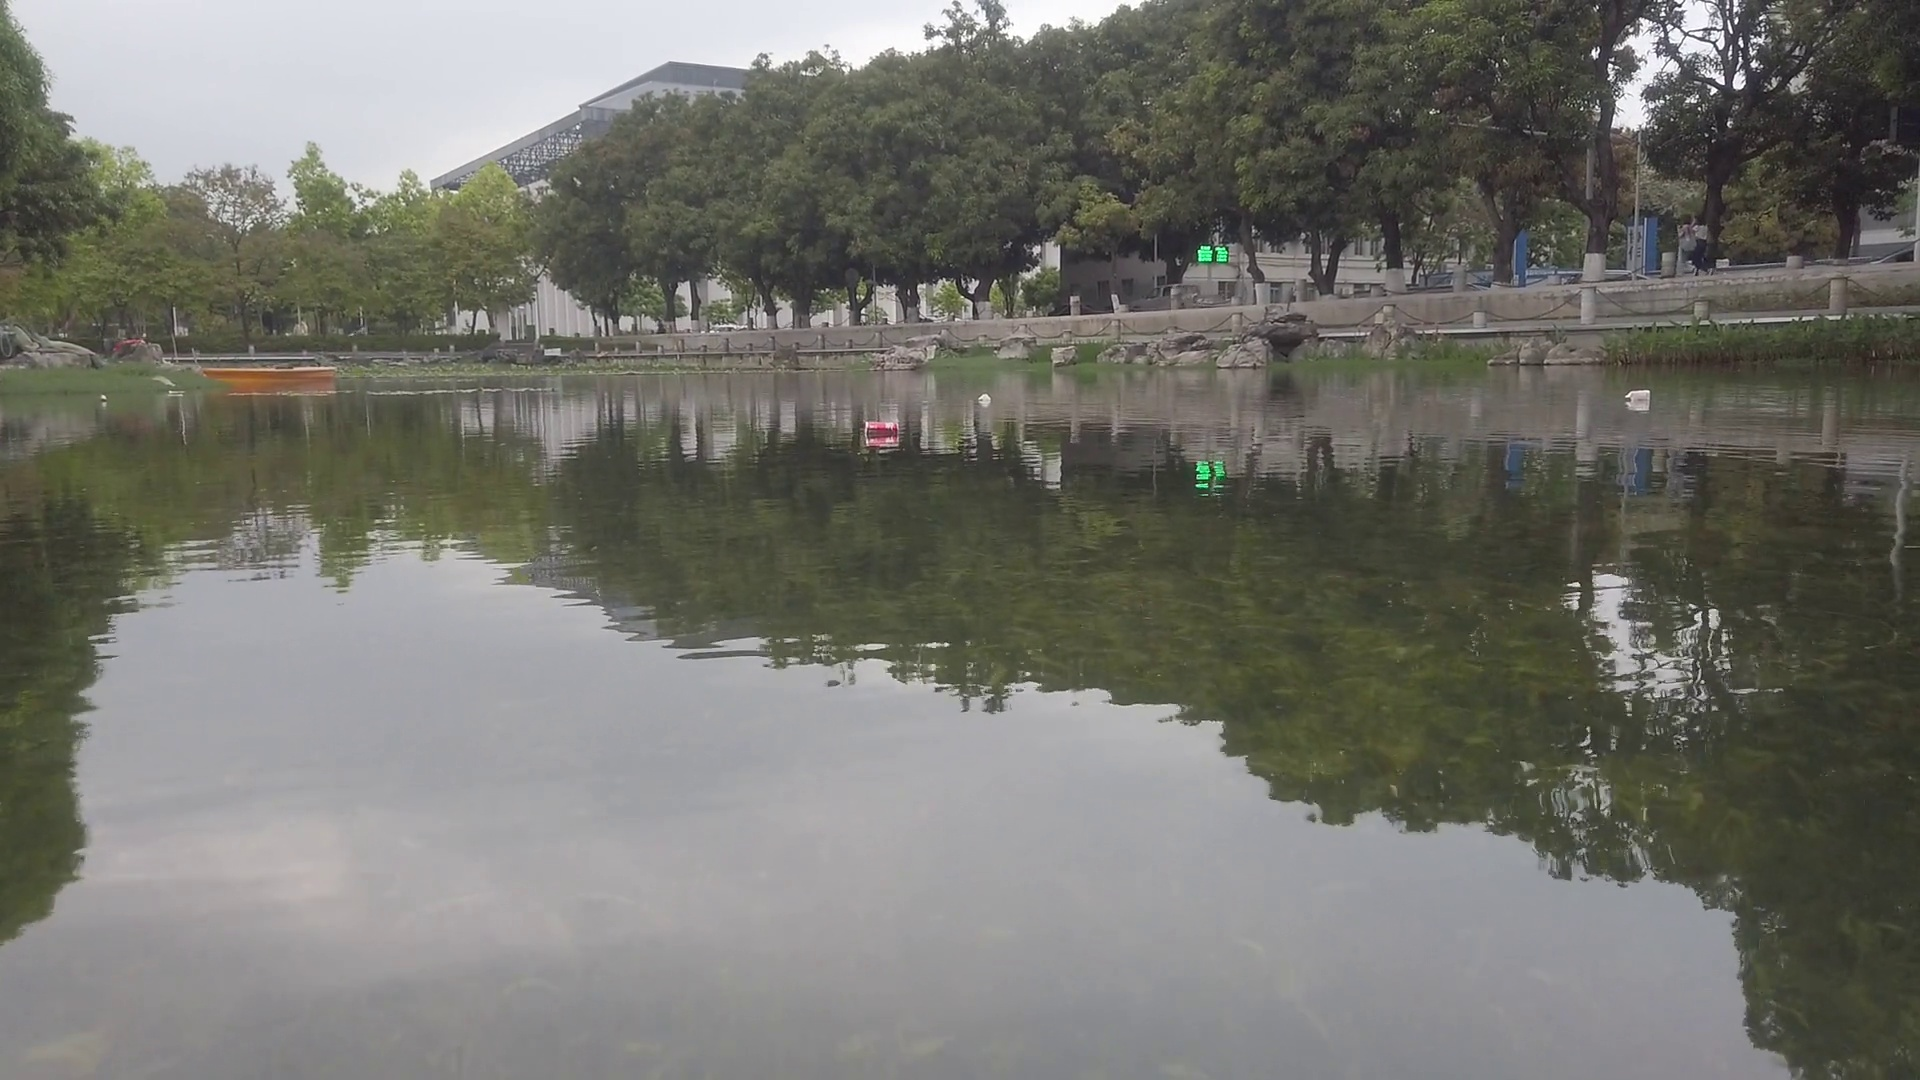bottle: (866, 422, 902, 436), (100, 394, 108, 402)
carton: (1625, 386, 1652, 404), (980, 392, 993, 404)
